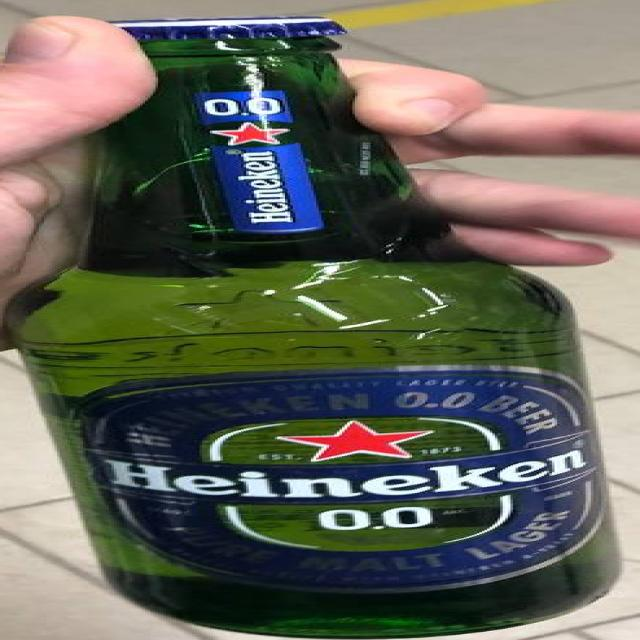Heineken: (2, 0, 640, 640)
